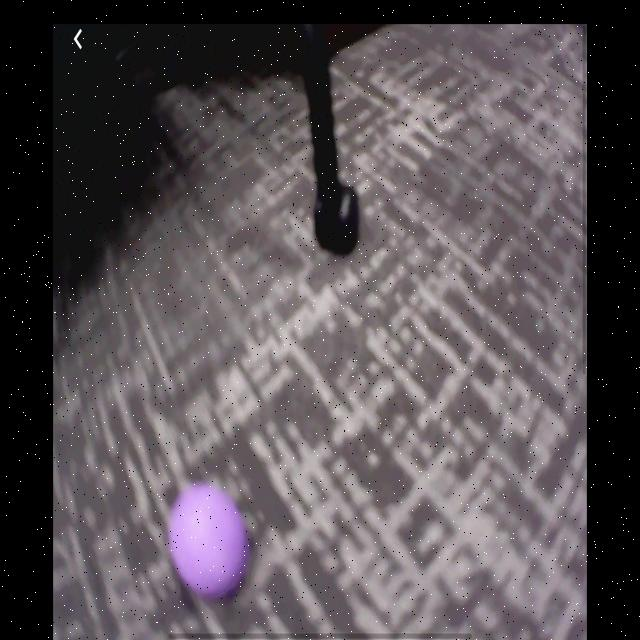ball: (170, 486, 250, 602)
